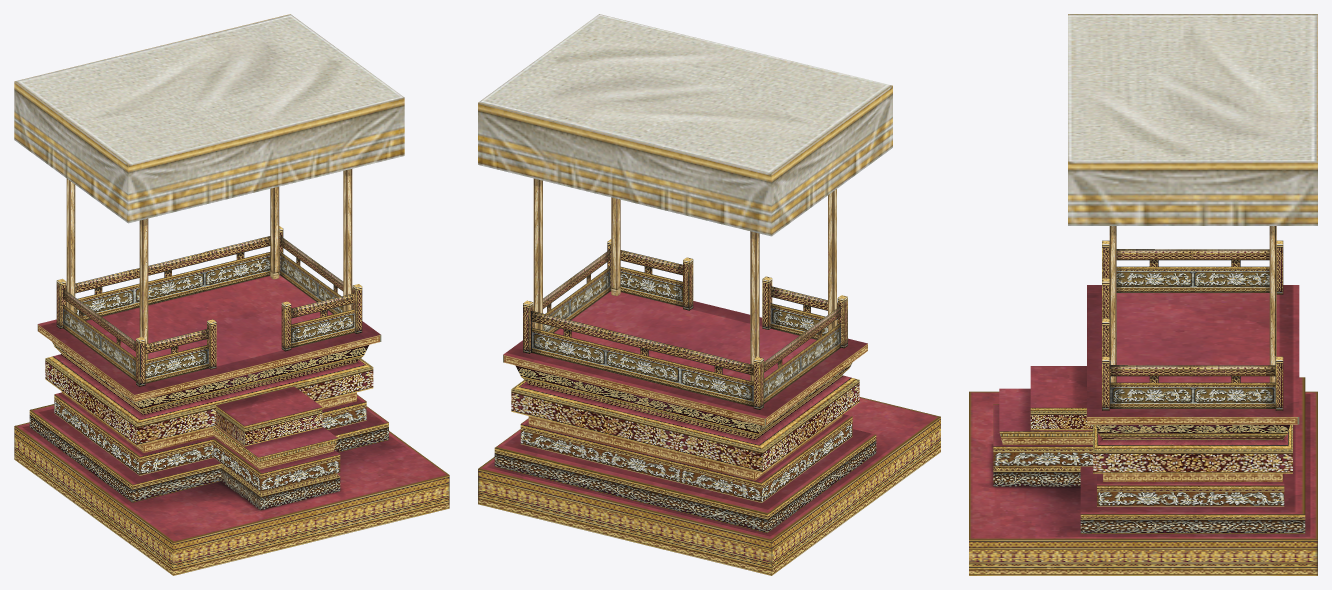
The model's file is altar.glb.
3 renders of one model, left to right at view 1: azimuth 30°, elevation 25°; view 2: azimuth 150°, elevation 25°; view 3: azimuth 270°, elevation 25°, orthographic. The views are drawn at different scales.
Visible parts, largest first — view 1: 002; view 2: 002; view 3: 002.
Boxes of the visible parts, bbox=[...] form: 002: bbox=[14, 14, 449, 575]; 002: bbox=[478, 14, 940, 575]; 002: bbox=[969, 14, 1317, 575].
Bounding box in the file's own units: 0.0729 × 0.0953 × 0.0727.
3 materials, 3 textured.
